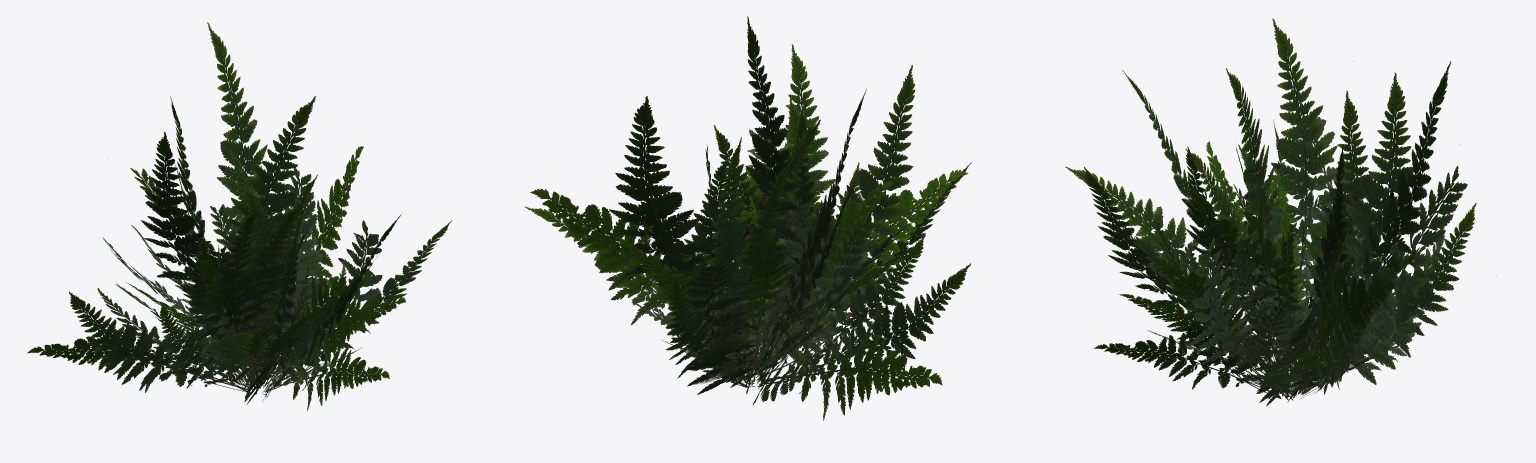
File: Fern_2.fbx
3 views of the same model, side by side, from view 1: azimuth 30°, elevation 25°; view 2: azimuth 150°, elevation 25°; view 3: azimuth 270°, elevation 25° (orthographic). The views are drawn at different scales.
Parts seen in each view (by area): view 1: Fern_2; view 2: Fern_2; view 3: Fern_2.
Part boxes in pixels (x1,y1,x2,y2): Fern_2: (27,22,452,410); Fern_2: (524,16,971,420); Fern_2: (1065,18,1496,406).
Bounding box in the file's own units: 201 × 160 × 179.
